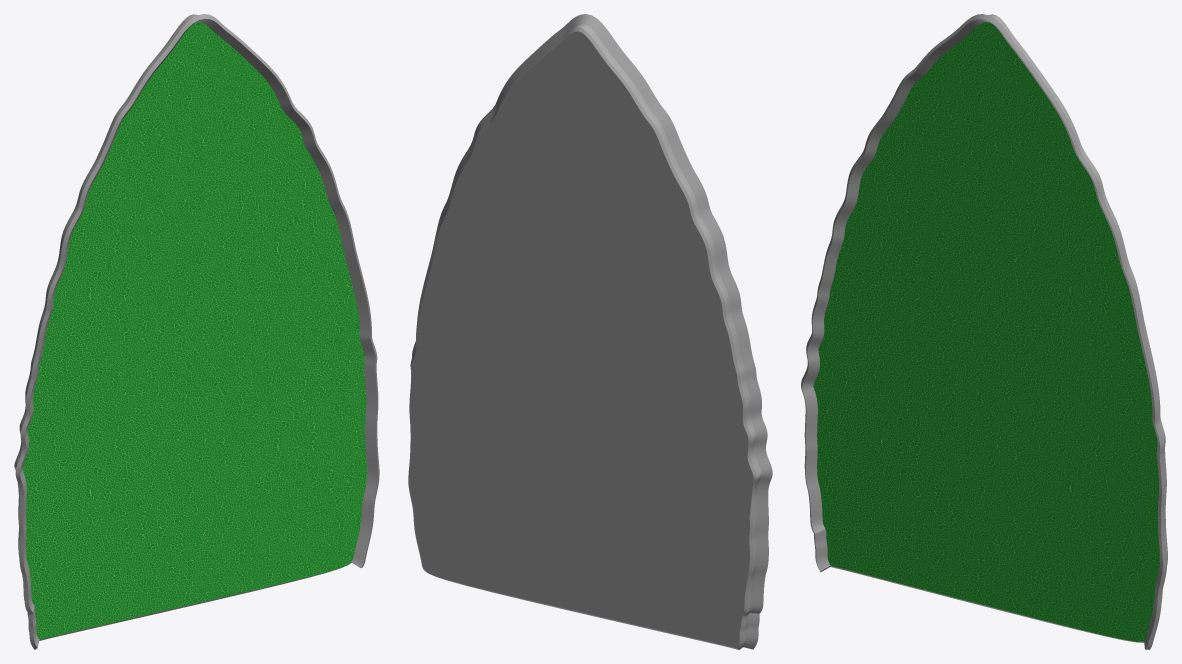
Rendered from porte_feuille.fbx.
3 renders of one model, left to right at view 1: azimuth 30°, elevation 25°; view 2: azimuth 150°, elevation 25°; view 3: azimuth 330°, elevation 25°, orthographic.
Visible parts, largest first — view 1: bevelPolygon1; view 2: bevelPolygon1; view 3: bevelPolygon1.
Boxes of the visible parts, x1,y1,x2,y2 form: bevelPolygon1: [14, 14, 379, 649]; bevelPolygon1: [408, 14, 772, 649]; bevelPolygon1: [801, 14, 1167, 649].
Size of the model in its own units: 1403 by 2193 by 76.04.
